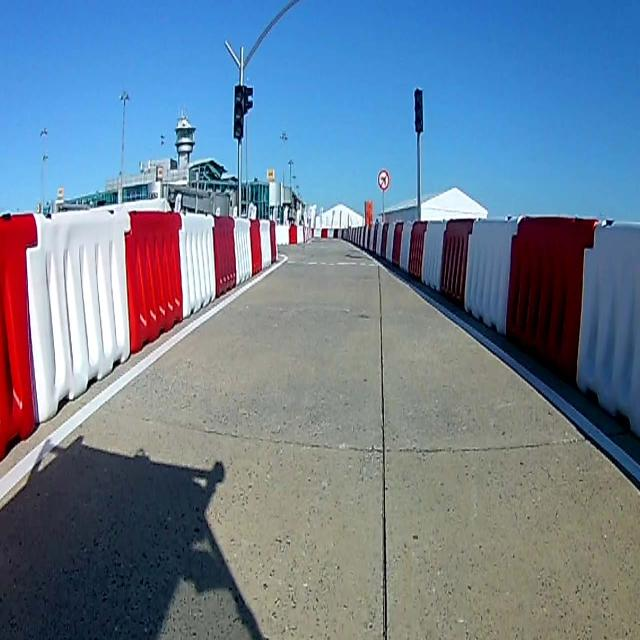soladonulmez: (378, 171, 390, 190)
